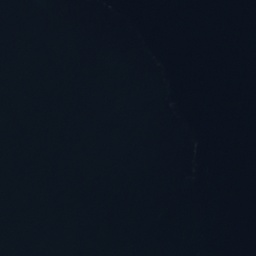Marine Debris: (108, 6, 111, 8)
